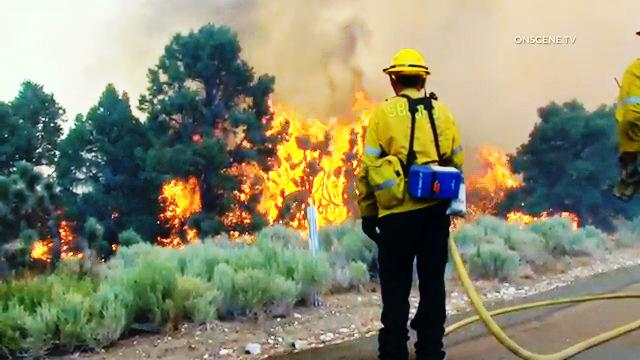fire: (260, 102, 351, 226), (141, 171, 203, 247), (465, 129, 520, 193), (25, 239, 53, 263)
